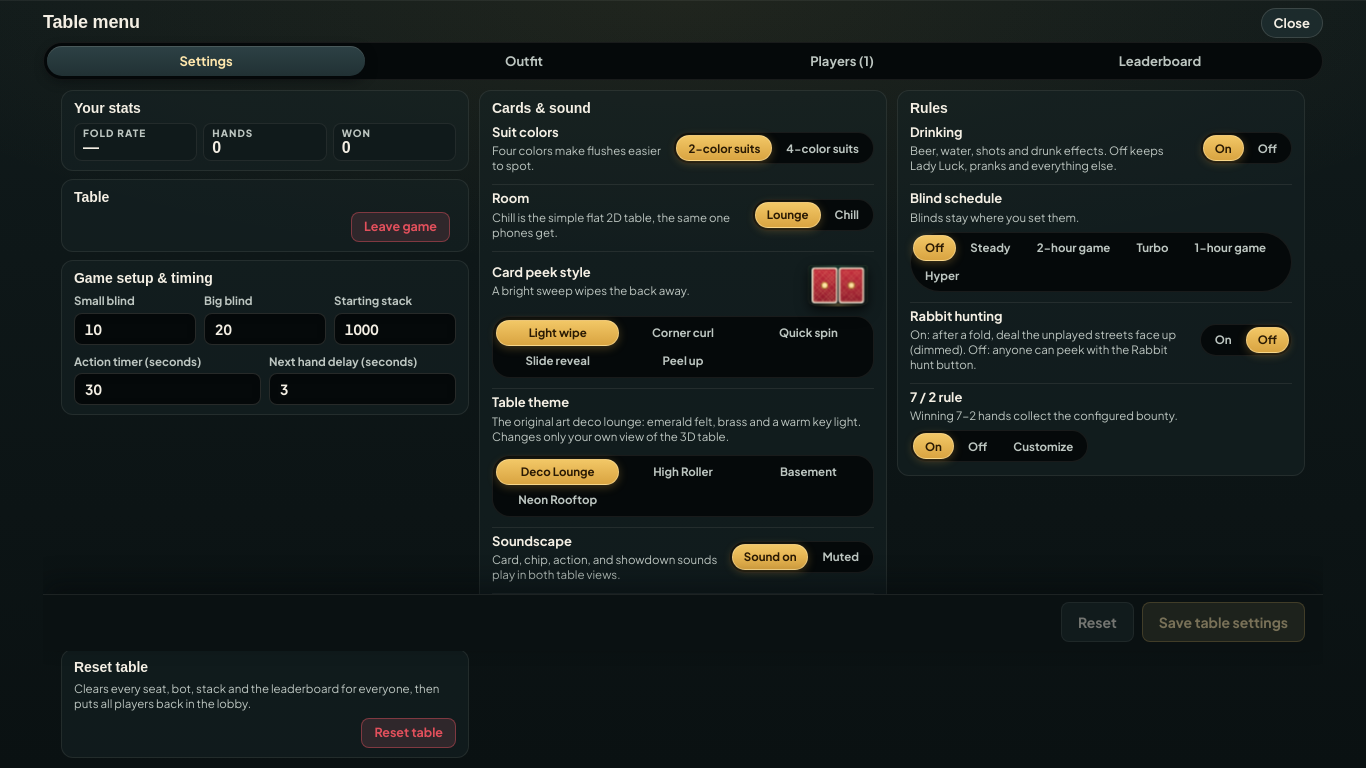
Scenario: SettingsModal › lets player chip amounts be cleared before typing a replacement
Click the button "Players (1)" at (842, 61), box [683,46,1001,76]
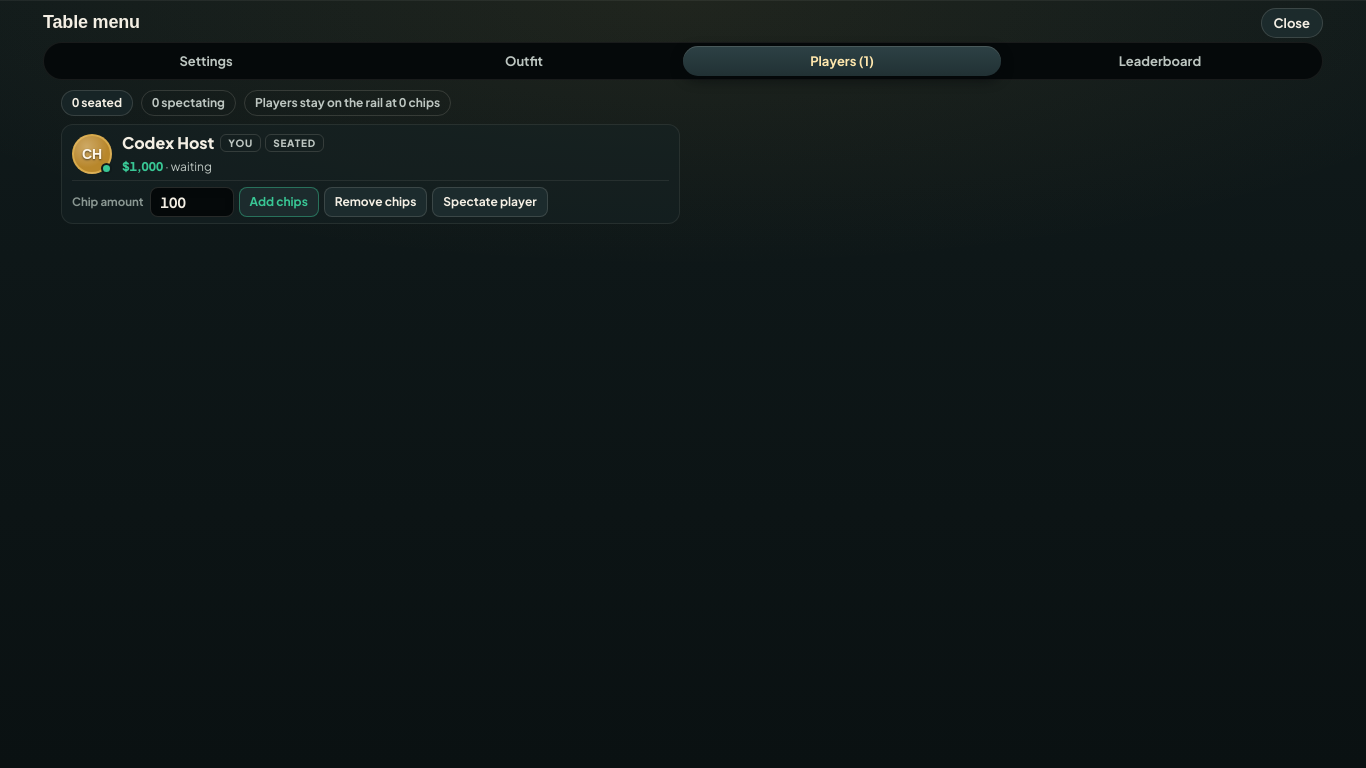
Clear the number field labelled "Chip amount" at (192, 202), box [150,187,234,217]
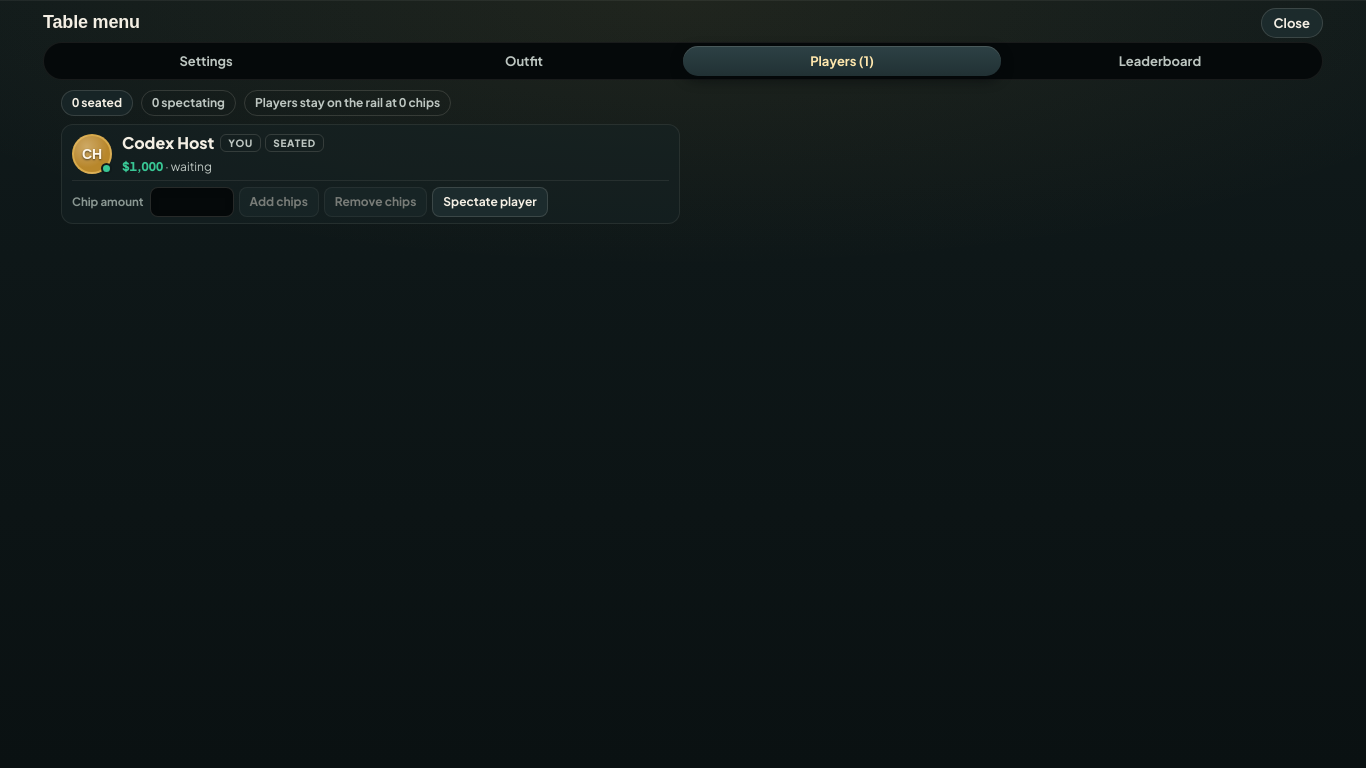
Expected: the button "Add chips" is disabled, [239,187,319,217]
Type "200" into the number field labelled "Chip amount" at (192, 202), box [150,187,234,217]
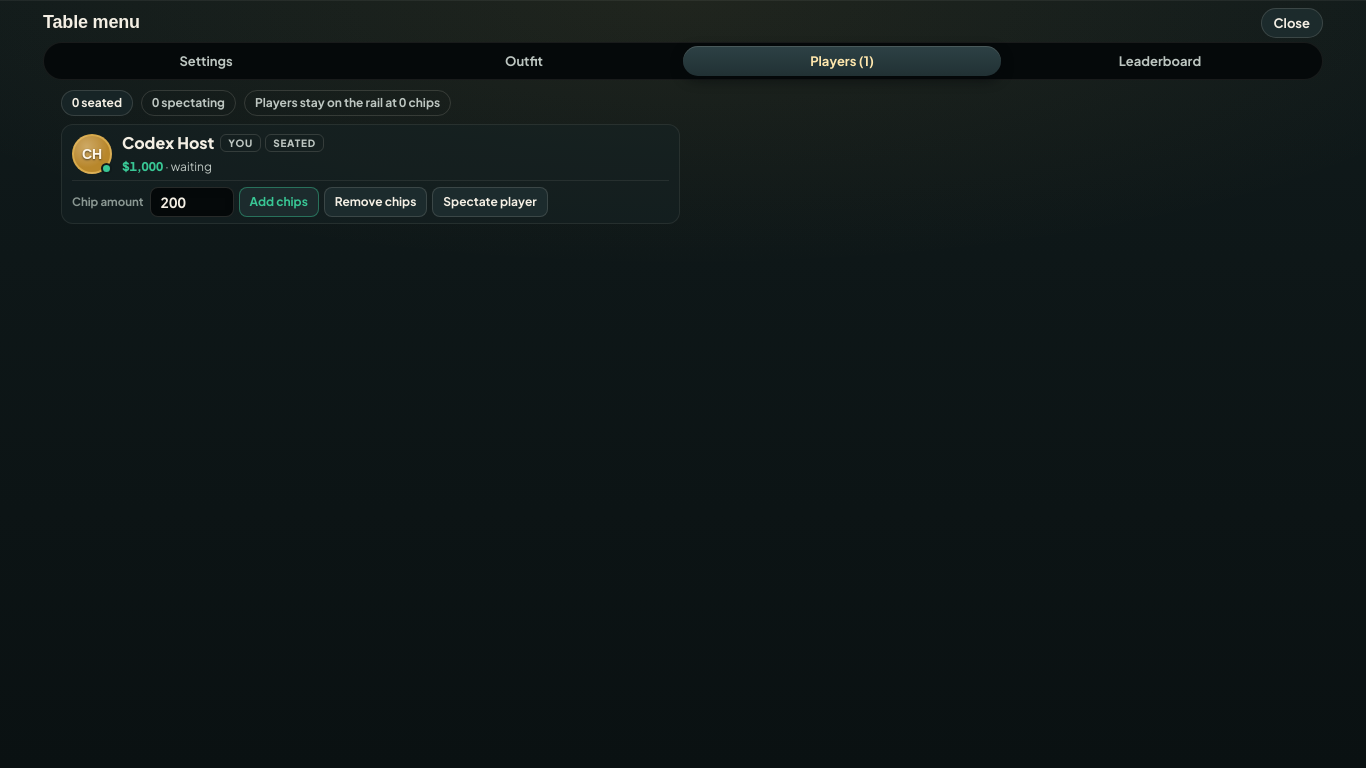
Expected: the button "Add chips" is enabled, [239,187,319,217]
